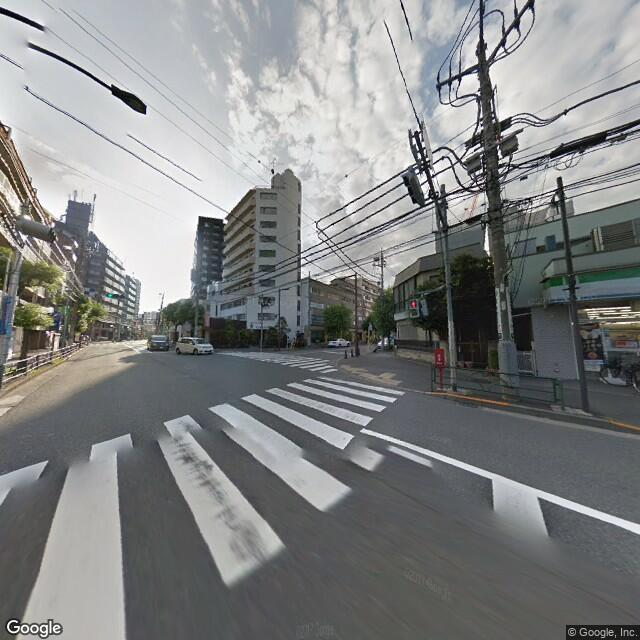family_mart: (544, 262, 638, 304)
